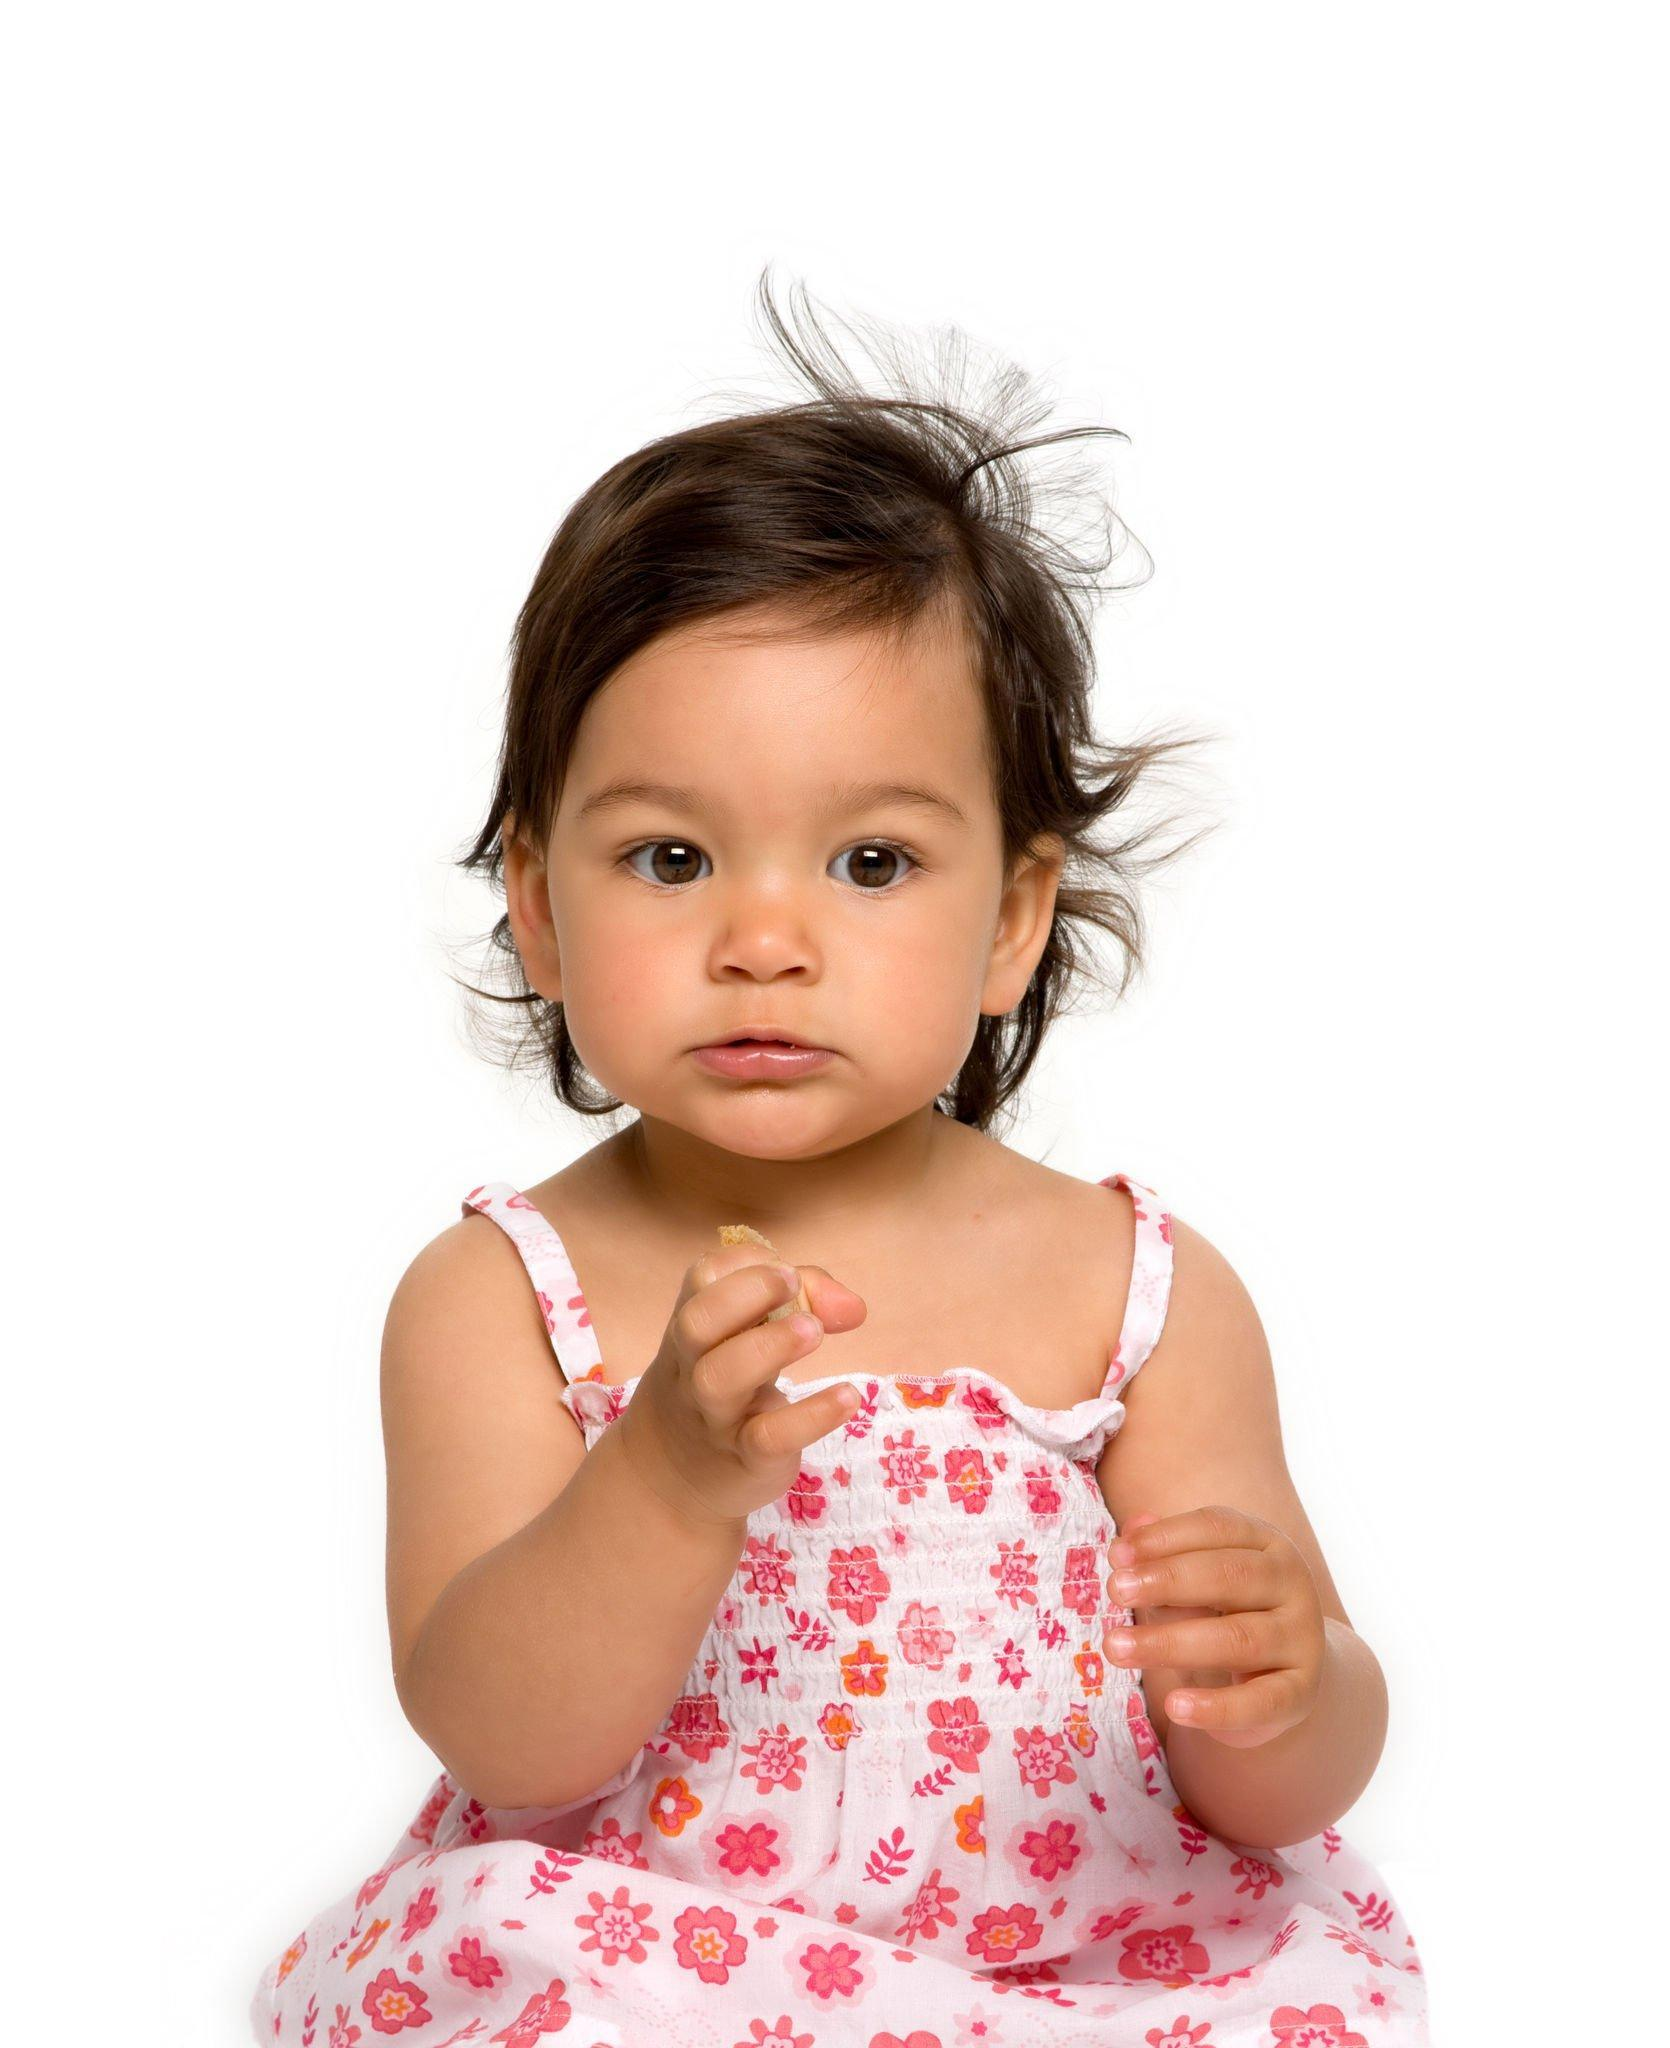Healthy: (500, 507, 1099, 1182)
